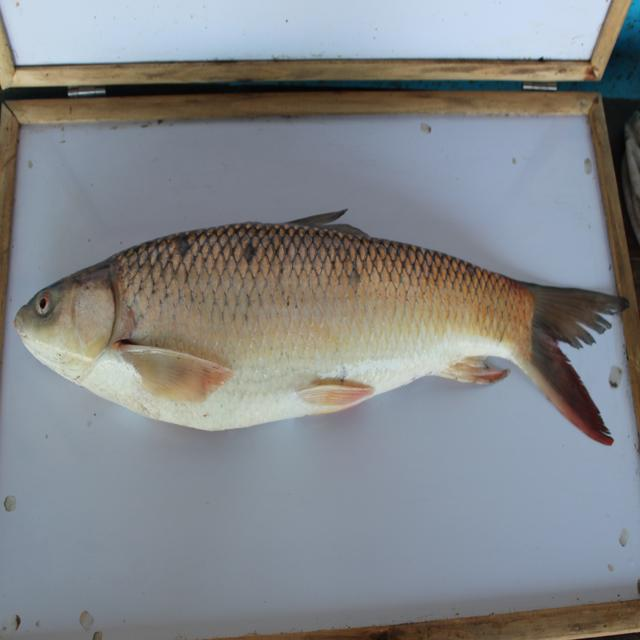Mori: (13, 214, 627, 458)
